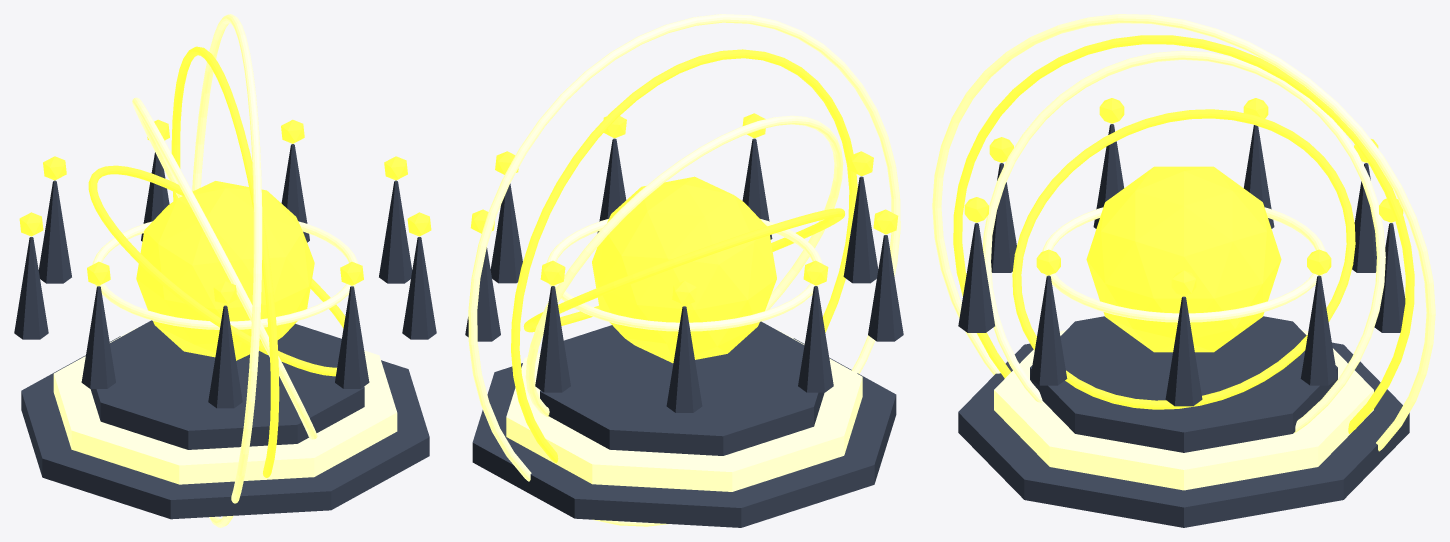
Rendered from gpu-blender-v49.glb.
3 renders of one model, left to right at view 1: azimuth 30°, elevation 25°; view 2: azimuth 150°, elevation 25°; view 3: azimuth 270°, elevation 25°, orthographic. The views are drawn at different scales.
Parts seen in each view (by area): view 1: Cylinder.002, Cylinder, SovereignCore_reality-shader-forge, Cylinder.001, Torus.004, Torus.003, Torus.001, Torus.002, Torus, Cone.006, Cone.004, Cone.008 (+6 smaller); view 2: Cylinder.002, SovereignCore_reality-shader-forge, Cylinder, Cylinder.001, Torus.004, Torus.003, Torus.002, Torus.001, Torus, Cone.005, Cone.002, Cone.004 (+6 smaller); view 3: SovereignCore_reality-shader-forge, Cylinder.002, Cylinder, Cylinder.001, Torus.004, Torus.003, Torus.002, Torus.001, Torus, Cone, Cone.001, Cone.008 (+6 smaller).
Part boxes in pixels (x1,y1,x2,y2): Cylinder.002: [90, 320, 364, 449]; Cylinder: [21, 336, 429, 519]; SovereignCore_reality-shader-forge: [136, 181, 314, 360]; Cylinder.001: [53, 327, 397, 484]; Torus.004: [192, 14, 262, 527]; Torus.003: [171, 46, 279, 479]; Torus.001: [88, 165, 345, 376]; Torus.002: [132, 97, 317, 439]; Torus: [92, 221, 358, 329]; Cone.006: [208, 305, 242, 408]; Cone.004: [14, 237, 48, 339]; Cone.008: [402, 237, 436, 339]; Cylinder.002: [540, 321, 824, 455]; SovereignCore_reality-shader-forge: [592, 176, 776, 363]; Cylinder: [472, 338, 896, 527]; Cylinder.001: [506, 329, 862, 491]; Torus.004: [468, 14, 900, 526]; Torus.003: [511, 49, 857, 462]; Torus.002: [525, 115, 843, 416]; Torus.001: [523, 208, 844, 332]; Torus: [546, 219, 822, 331]; Cone.005: [868, 235, 903, 341]; Cone.002: [535, 286, 570, 392]; Cone.004: [798, 286, 833, 392]; SovereignCore_reality-shader-forge: [1086, 166, 1281, 352]; Cylinder.002: [1030, 316, 1337, 452]; Cylinder: [958, 342, 1409, 527]; Cylinder.001: [994, 330, 1373, 490]; Torus.004: [932, 14, 1435, 451]; Torus.003: [953, 35, 1414, 433]; Torus.002: [983, 50, 1385, 432]; Torus.001: [1012, 109, 1355, 409]; Torus: [1042, 207, 1325, 322]; Cone: [1165, 296, 1202, 406]; Cone.001: [1300, 275, 1337, 385]; Cone.008: [1030, 275, 1067, 385].
Size of the model in its own units: 4.41 by 5.33 by 4.9.
